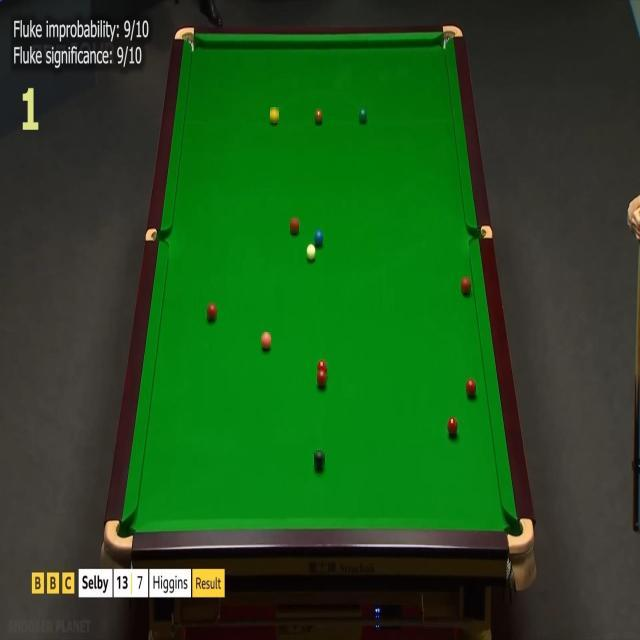Ball: (447, 418, 458, 436), (314, 450, 325, 468), (207, 302, 217, 320), (466, 378, 476, 396), (461, 276, 471, 293), (317, 369, 327, 386), (261, 332, 271, 348), (306, 244, 316, 260), (270, 108, 279, 124), (318, 359, 328, 373), (290, 218, 299, 233), (359, 108, 367, 122), (315, 230, 323, 244), (314, 109, 322, 122)
